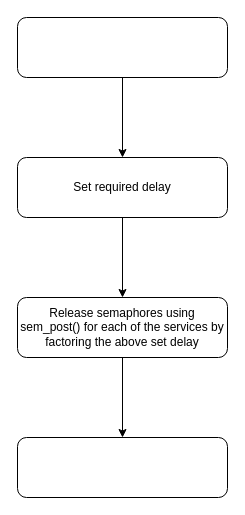
The diagram is 245 pixels wide and 515 high, and some of its shapes have lost their labels. The shapes that lost their labels are listed below. From the top down, each one's box as (x1, y1, x2, y2) in pixels, then its label:
(16, 16, 228, 78): Start Sequencer after thread creation
(16, 436, 228, 498): Sleep for a couple of nanoseconds
